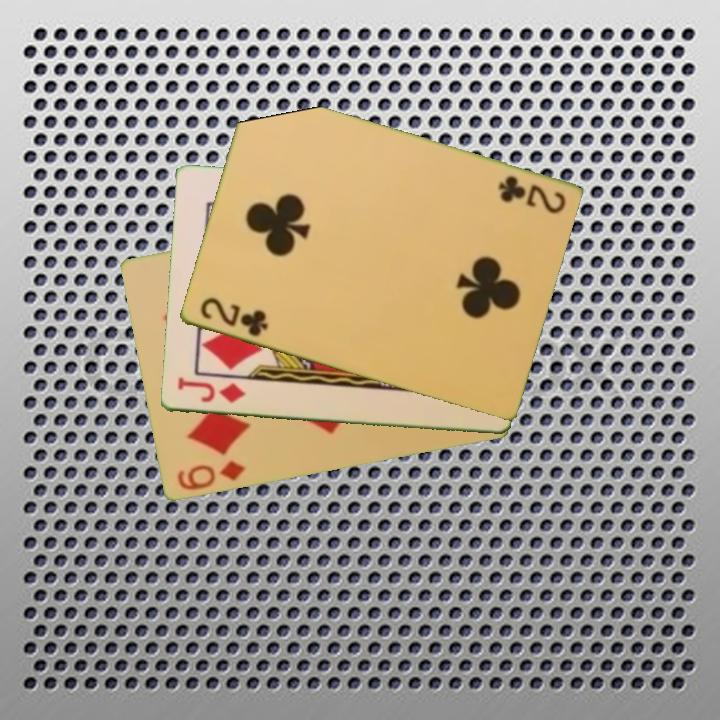2c: (196, 294, 271, 340), (493, 172, 568, 217)
6d: (173, 458, 248, 494)
Jd: (174, 374, 248, 407)
